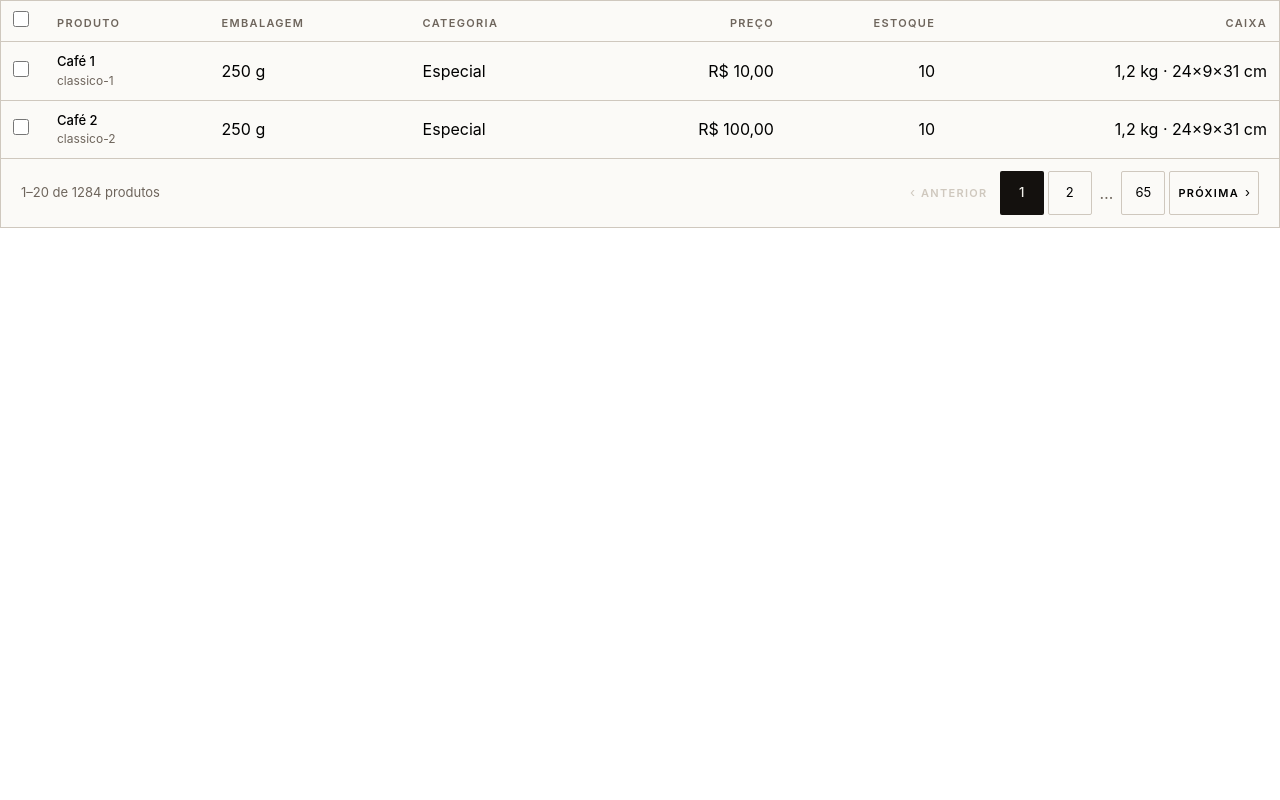
it: o lote de preço › a linha que ficaria negativa sai do lote, com o motivo ao lado
The width and height of the screenshot is (1280, 800).
Click the checkbox named "Marcar Café 1" at (21, 69), box [13,61,29,77]
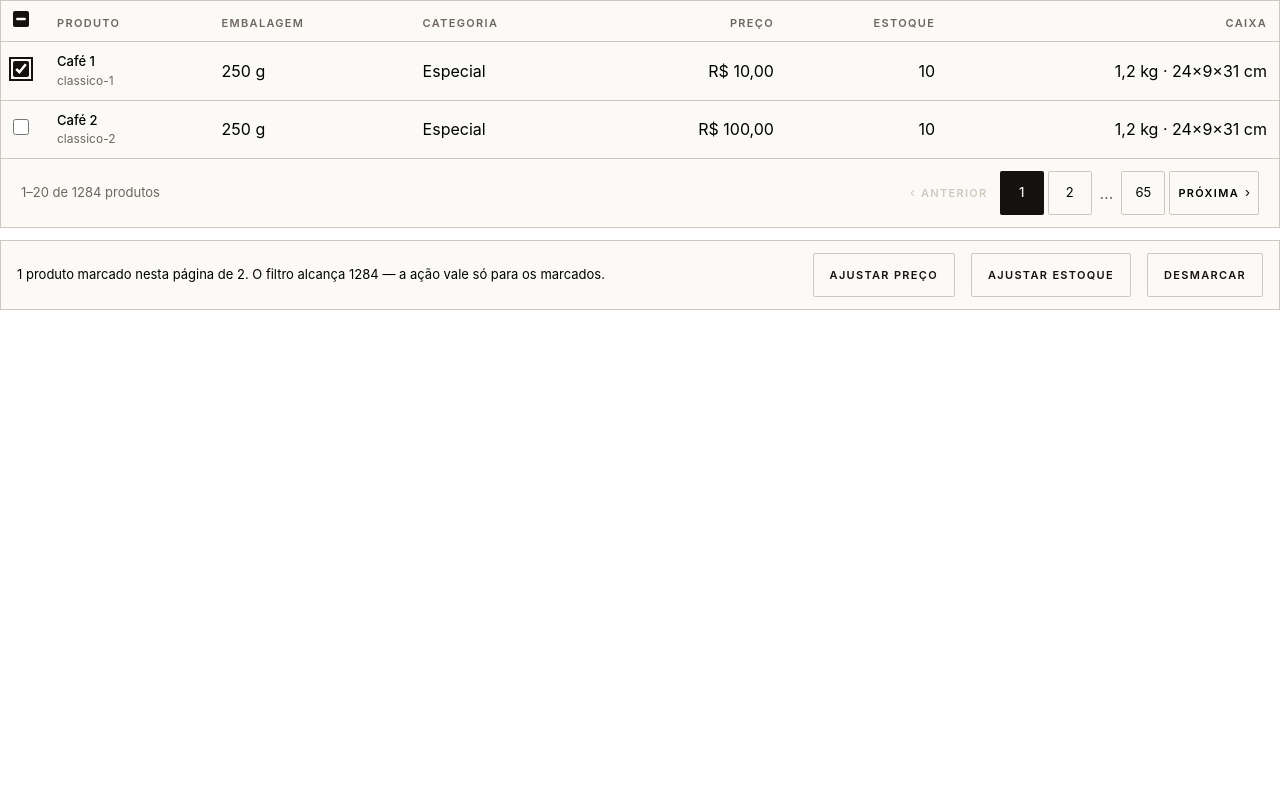
Click the checkbox named "Marcar Café 2" at (21, 127), box [13,119,29,135]
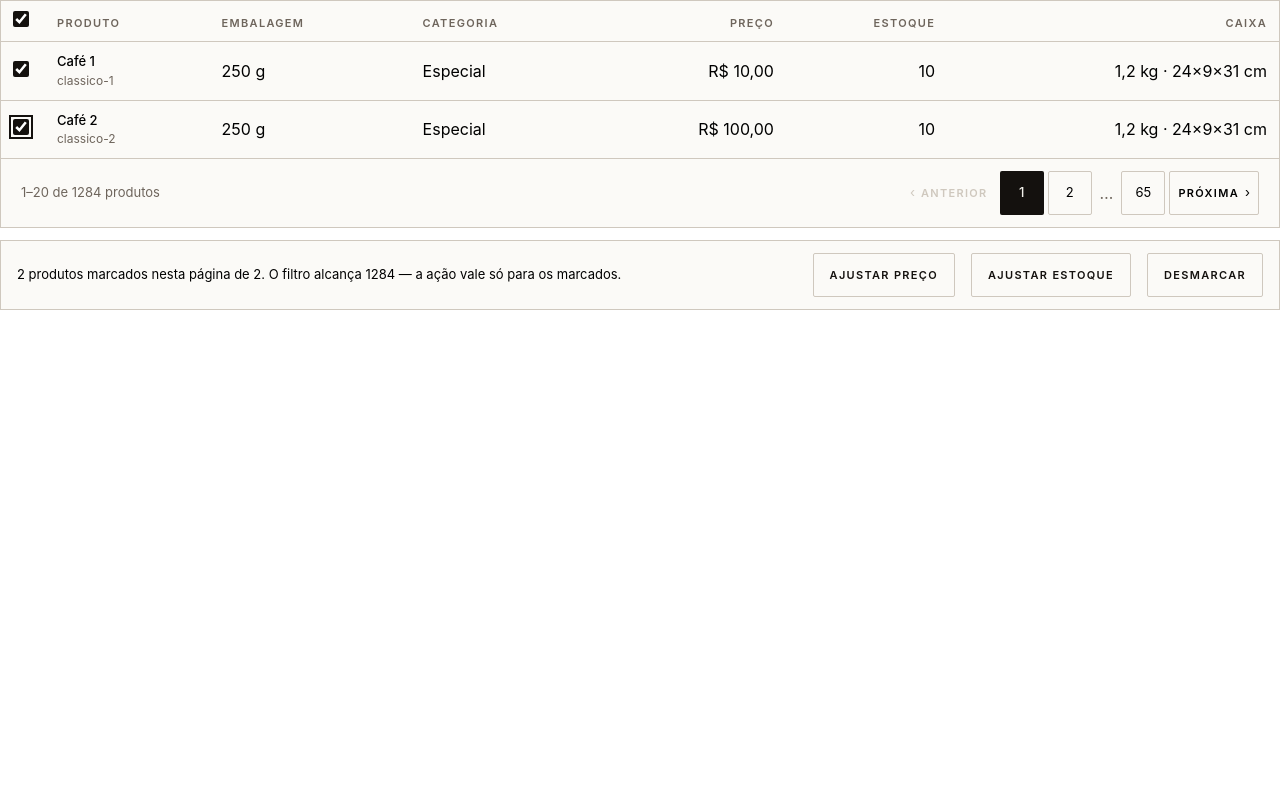
Click the button "Ajustar preço" at (884, 275), box [813,253,955,297]
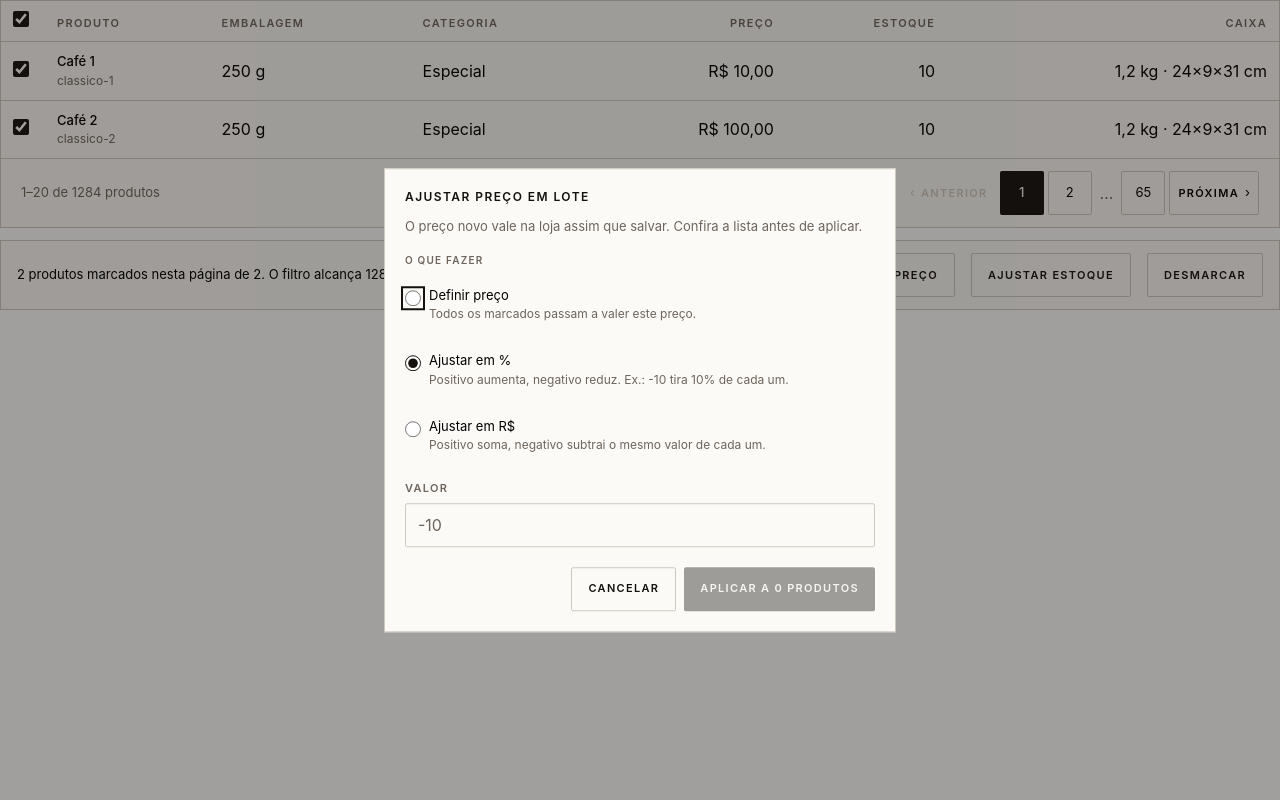
Click the radio button labelled "Ajustar em R$" at (413, 429), box [405,421,421,437]
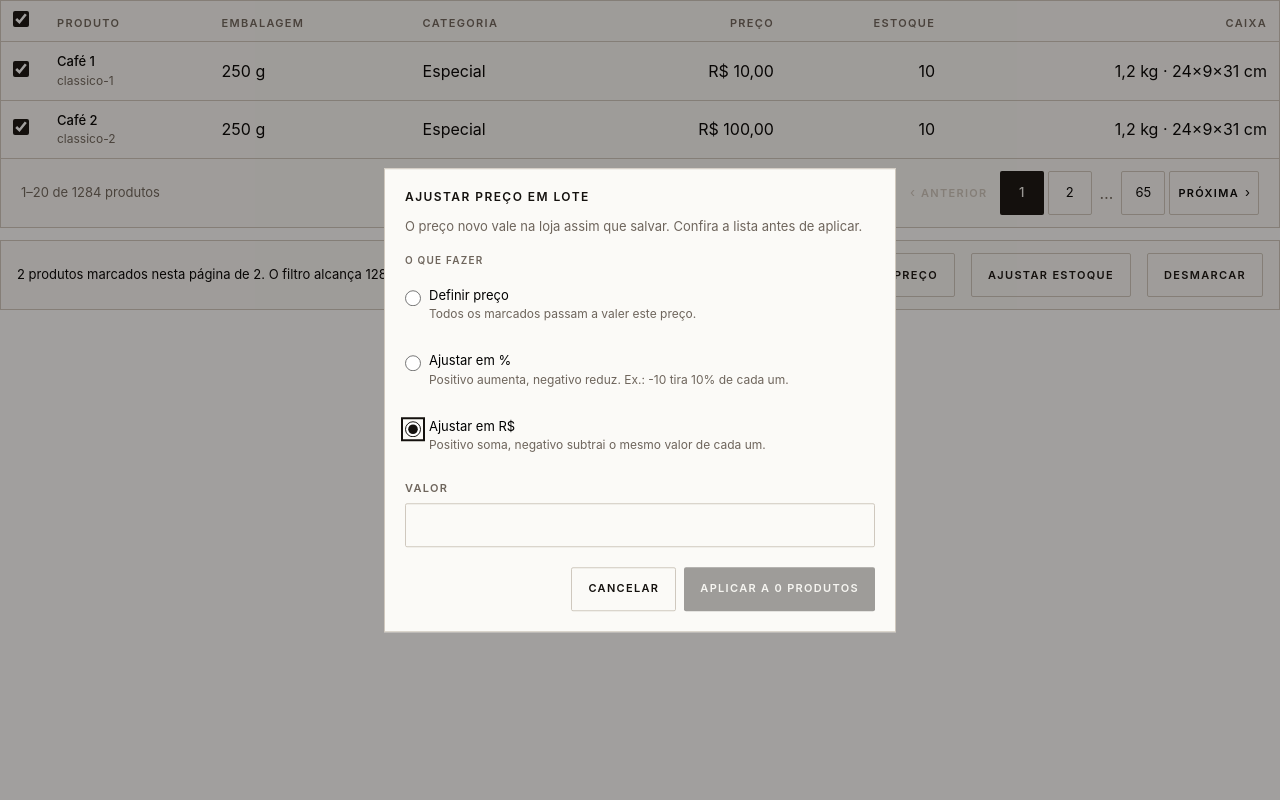
Type "-50" into the field labelled "Valor" at (640, 525), box [405,503,875,547]
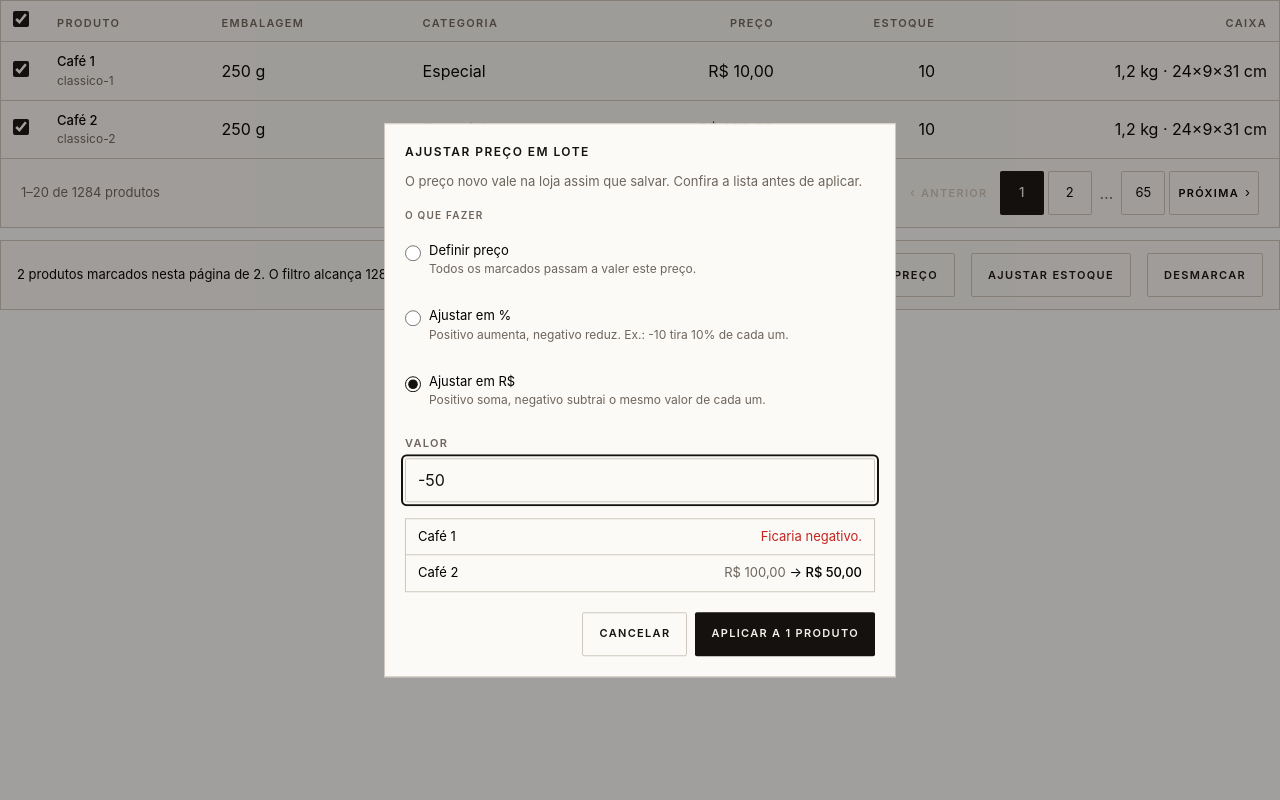
Expected: the dialog shows "Ficaria negativo.", [761,528,862,544]
Expected: the button "Aplicar a 1 produto" is shown, [695,612,875,656]
